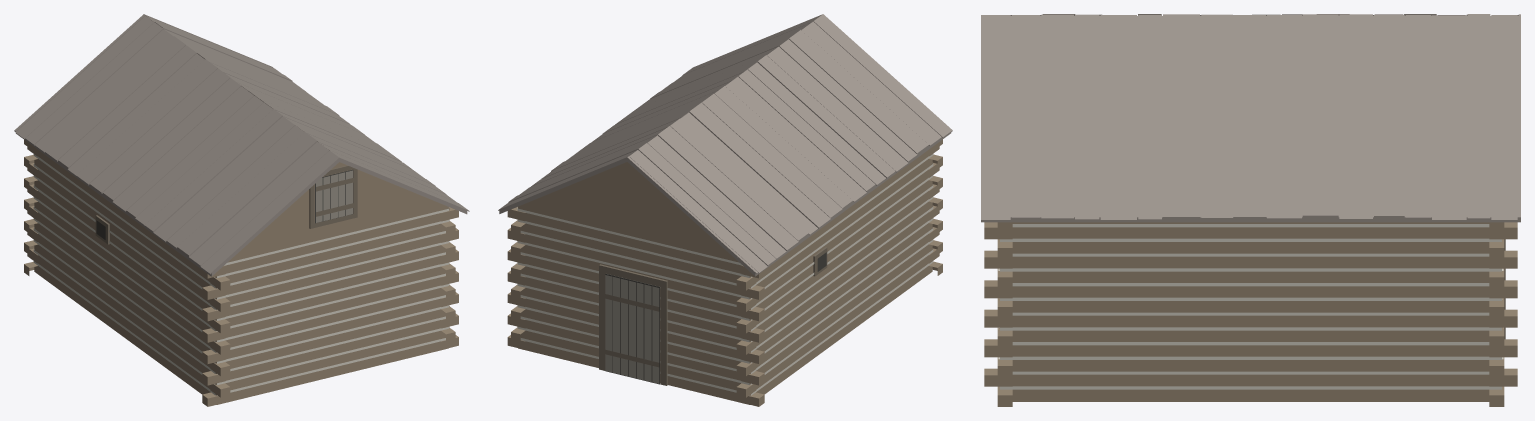
Rendered from recon_1835_blk_south_water_wells_a1_07__inferred_1835.glb.
3 views of the same model, side by side, from view 1: azimuth 30°, elevation 25°; view 2: azimuth 150°, elevation 25°; view 3: azimuth 270°, elevation 25° (orthographic). The views are drawn at different scales.
Parts seen in each view (by area): view 1: recon_1835_blk_south_water_wells_a1_07__inferred_1835; view 2: recon_1835_blk_south_water_wells_a1_07__inferred_1835; view 3: recon_1835_blk_south_water_wells_a1_07__inferred_1835.
Part boxes in pixels (x1,y1,x2,y2): recon_1835_blk_south_water_wells_a1_07__inferred_1835: (14, 14, 469, 406); recon_1835_blk_south_water_wells_a1_07__inferred_1835: (498, 14, 952, 406); recon_1835_blk_south_water_wells_a1_07__inferred_1835: (981, 14, 1520, 406).
Bounding box in the file's own units: 6.43 × 5.31 × 8.38.
